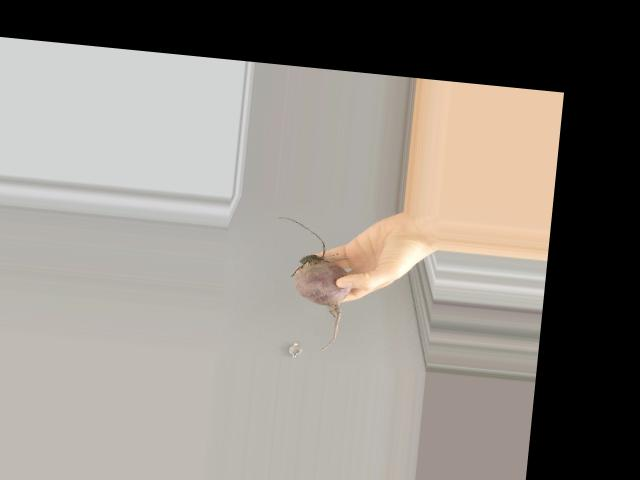beet: (264, 216, 357, 352)
